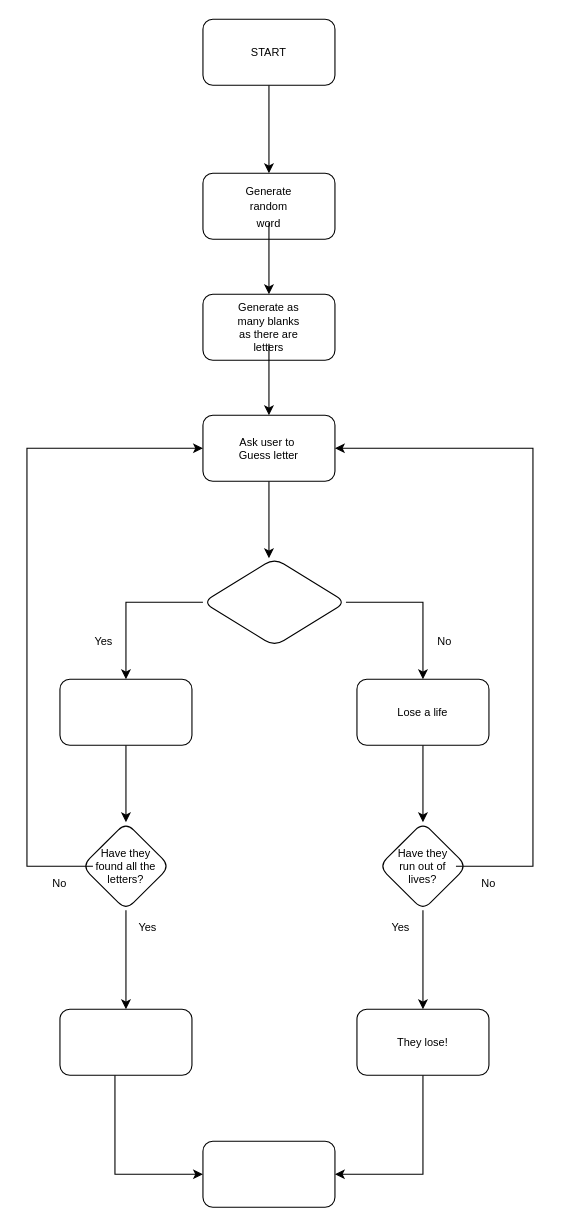
Some shapes in this 561 by 1227 pixel diagram are drawn without their labels. The shapes that lost their labels are listed below. From the top down, each one's centre as x and y in pixels, then its label:
At point (274, 601): "Is the guessed letter in the word?".
At point (125, 711): "Replace the blank with the letter".
At point (125, 1041): "They win!".
At point (268, 1173): "Game over".
